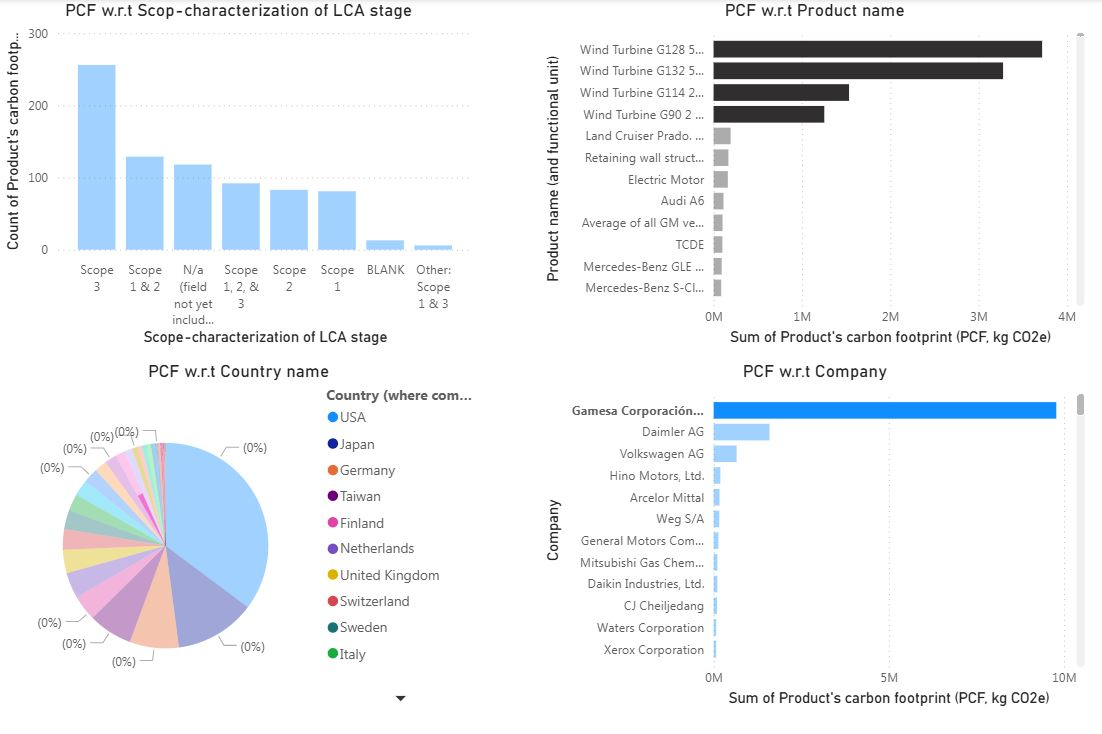

The page's visual inventory and layout, read from the dashboard file:
{"tool":"powerbi","page":{"name":"Page 1","canvas":[1280,720],"ordinal":0},"visuals":[{"type":"barChart","title":"PCF w.r.t Product name","fields":{"Category":["PublicTablesForCarbonCatalogueDataDescriptor_v30Oct2021(Product Level Data).Product name (and functional unit)"],"Y":["Sum(PublicTablesForCarbonCatalogueDataDescriptor_v30Oct2021(Product Level Data).Product's carbon footprint (PCF, kg CO2e"]},"box":[521.2,0,530.8,339],"z":0},{"type":"columnChart","title":"PCF w.r.t Scop-characterization of LCA stage","fields":{"Category":["PublicTablesForCarbonCatalogueDataDescriptor_v30Oct2021(Stage Level Data).Scope-characterization of LCA stage"],"Y":["CountNonNull(PublicTablesForCarbonCatalogueDataDescriptor_v30Oct2021(Product Level Data).Product's carbon footprint (PCF"]},"box":[0,0,460.9,339],"z":1000},{"type":"pieChart","title":"PCF w.r.t Country name","fields":{"Y":["CountNonNull(PublicTablesForCarbonCatalogueDataDescriptor_v30Oct2021(Product Level Data).Product's carbon footprint (PCF"],"Category":["PublicTablesForCarbonCatalogueDataDescriptor_v30Oct2021(Product Level Data).Country (where company is incorporated)"]},"box":[0,349,461,339],"z":1001},{"type":"barChart","title":"PCF w.r.t Company","fields":{"Category":["PublicTablesForCarbonCatalogueDataDescriptor_v30Oct2021(Product Level Data).Company"],"Y":["CountNonNull(PublicTablesForCarbonCatalogueDataDescriptor_v30Oct2021(Product Level Data).Product's carbon footprint (PCF"]},"box":[521,349,531,339],"z":1002}]}

Visuals, with their boxes on the page's 1280x720 design canvas (x1, y1, x2, y2). These are canvas units, not pixel positions in the 1102x734 screenshot, which may show the page scaled, cropped or inside an application window:
"PCF w.r.t Product name" barChart: x1=521 y1=0 x2=1052 y2=339
"PCF w.r.t Scop-characterization of LCA stage" columnChart: x1=0 y1=0 x2=461 y2=339
"PCF w.r.t Country name" pieChart: x1=0 y1=349 x2=461 y2=688
"PCF w.r.t Company" barChart: x1=521 y1=349 x2=1052 y2=688
